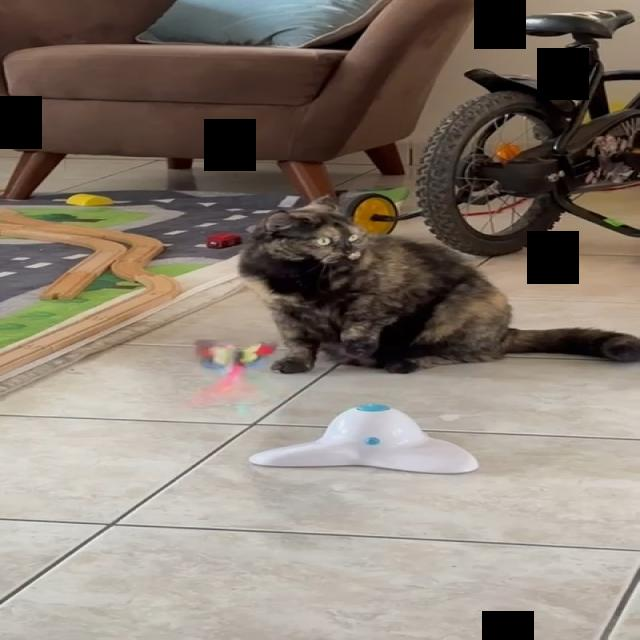authorized: (236, 194, 639, 374)
